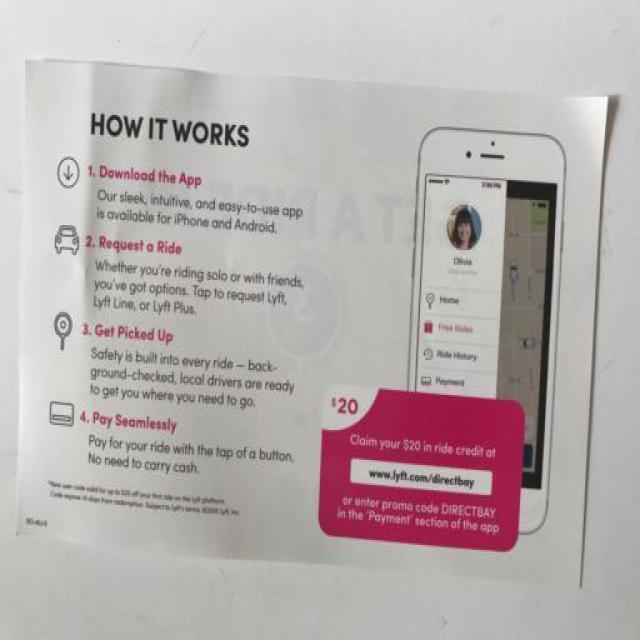paper: (11, 48, 622, 637)
